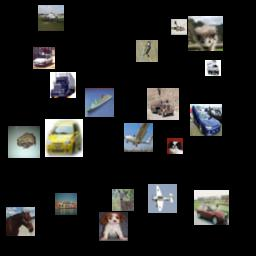airplane: (148, 184, 177, 213), (124, 123, 153, 152), (38, 5, 64, 31), (171, 19, 187, 35)
automobile: (45, 119, 83, 157), (194, 190, 229, 225), (190, 104, 222, 136), (33, 47, 55, 69)
bird: (188, 16, 223, 51), (136, 40, 158, 62)
deer: (112, 189, 134, 211)
dog: (99, 212, 128, 241), (167, 138, 183, 154)
frog: (8, 126, 40, 158)
ship: (85, 88, 114, 117), (55, 193, 77, 215)
truck: (147, 88, 179, 120), (50, 72, 76, 98), (205, 60, 221, 76)
